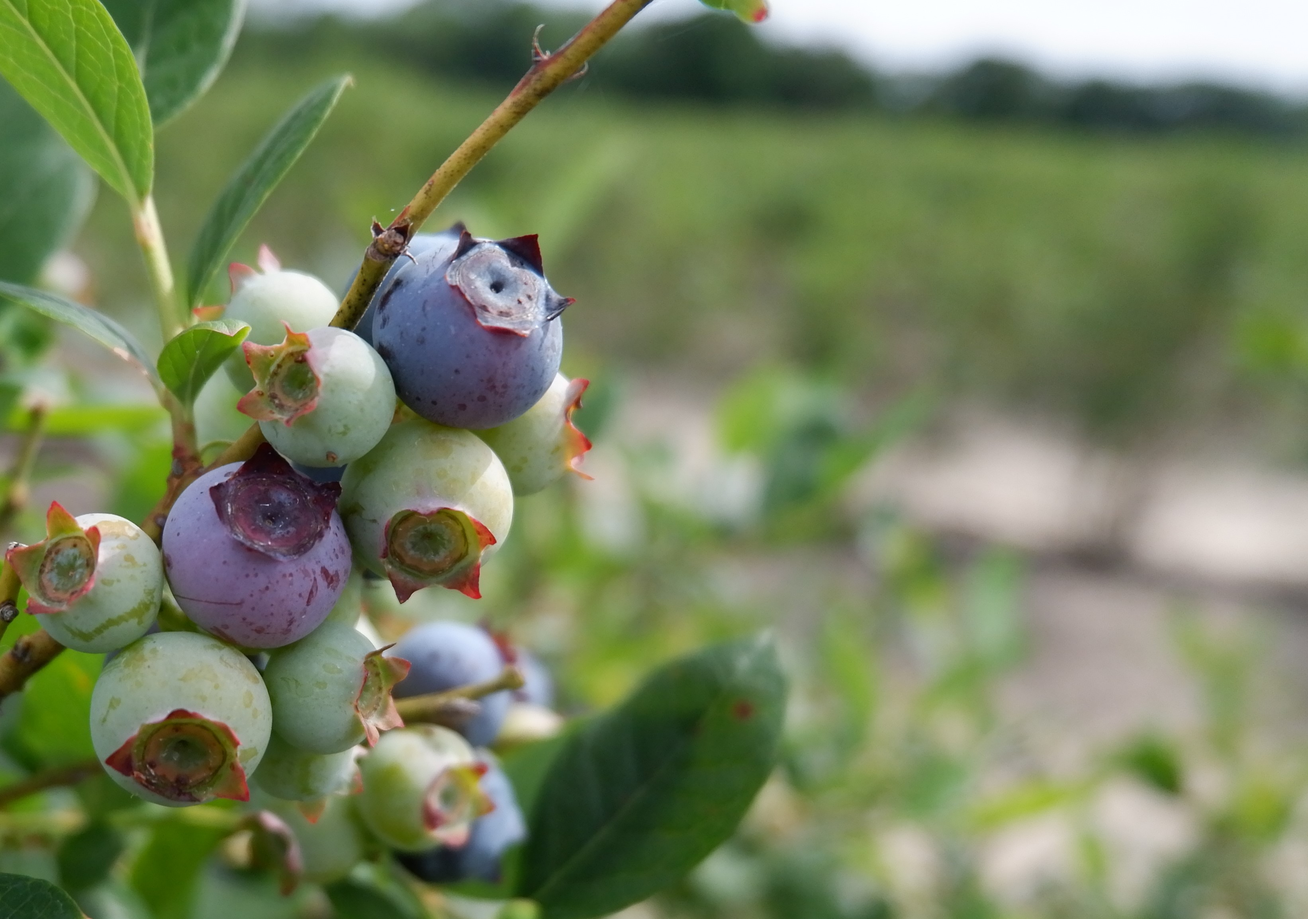Immature: (93, 633, 266, 805), (340, 417, 509, 593), (6, 499, 164, 652), (192, 243, 339, 399), (236, 329, 391, 468), (263, 626, 407, 751), (360, 728, 484, 850), (483, 378, 585, 493), (255, 733, 357, 799), (315, 558, 365, 632)
Mature: (370, 235, 576, 423), (165, 453, 351, 646), (340, 220, 473, 343), (391, 627, 512, 747)
